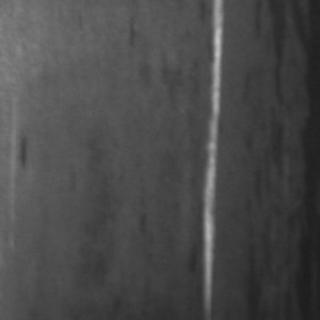inclusion: (262, 0, 318, 318)
scratches: (195, 1, 227, 316)
